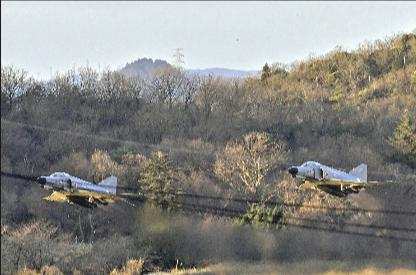F35: (285, 160, 397, 196), (35, 172, 147, 208)
